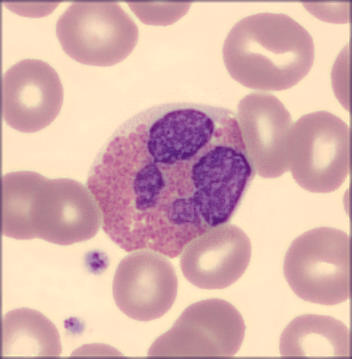EO: (87, 102, 256, 262)
MO: (81, 248, 108, 276), (62, 314, 87, 338)
RBC: (221, 12, 315, 92), (24, 172, 101, 248), (55, 1, 139, 68), (283, 110, 350, 191), (281, 226, 348, 307), (237, 90, 297, 180), (178, 222, 253, 288), (113, 248, 176, 323), (2, 59, 66, 132), (171, 296, 246, 358), (1, 169, 60, 244), (1, 299, 65, 359), (278, 310, 351, 359), (124, 1, 192, 31), (326, 44, 352, 112), (302, 1, 352, 26)
